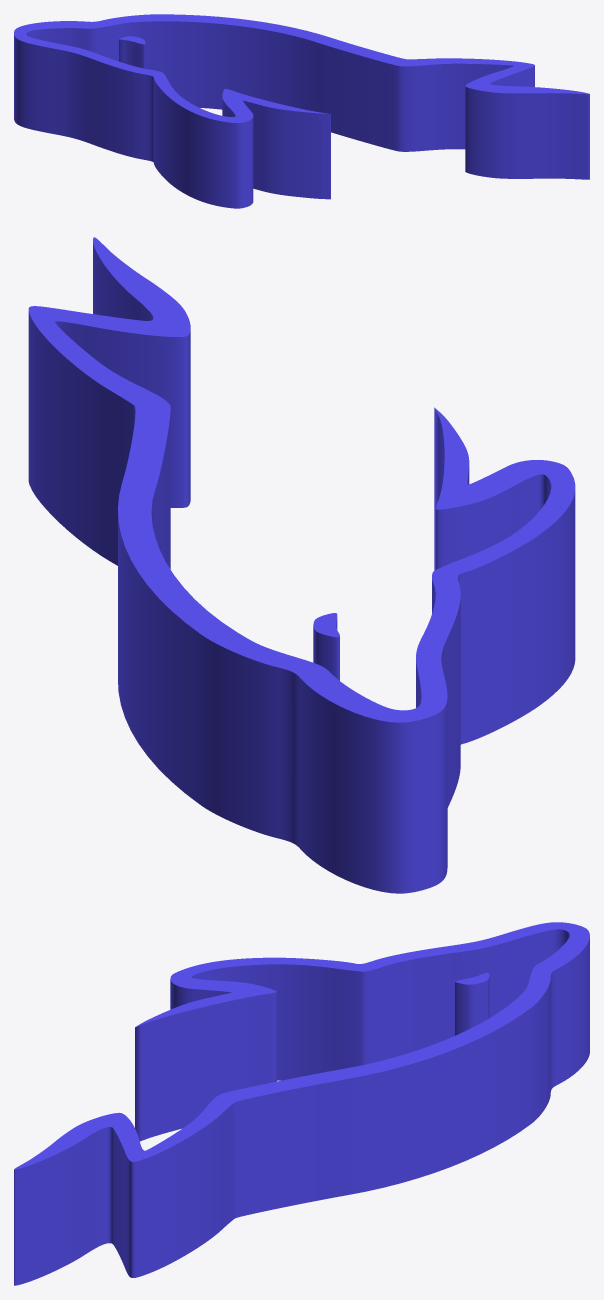
File: mysql.fbx
3 views of the same model, one above another, from view 1: azimuth 30°, elevation 25°; view 2: azimuth 150°, elevation 25°; view 3: azimuth 270°, elevation 25° (orthographic). The views are drawn at different scales.
Visible parts, largest first — view 1: Curve.003, Curve.007; view 2: Curve.003, Curve.007; view 3: Curve.003, Curve.007.
Boxes of the visible parts, bbox=[...] form: Curve.003: bbox=[14, 14, 589, 208]; Curve.007: bbox=[119, 36, 145, 68]; Curve.003: bbox=[28, 237, 575, 893]; Curve.007: bbox=[313, 613, 339, 680]; Curve.003: bbox=[14, 922, 589, 1285]; Curve.007: bbox=[455, 972, 489, 1035].
Bounding box in the file's own units: 2.74 × 0.6 × 2.7.
